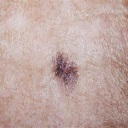Melanoma: (52, 50, 78, 88)
